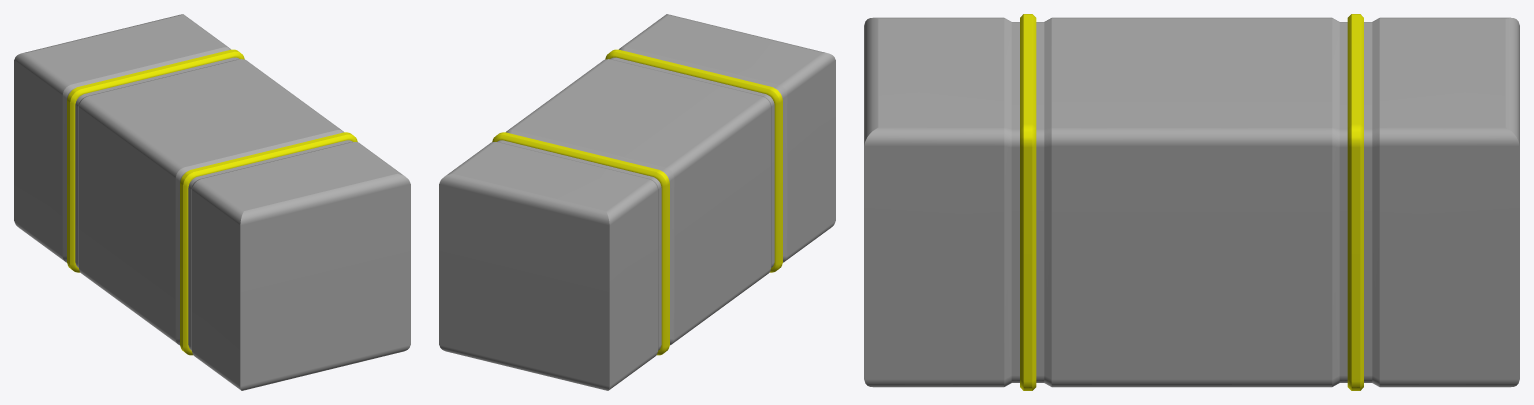
The model's file is hay.fbx.
The picture shows the model from 3 angles, left to right: view 1: azimuth 30°, elevation 25°; view 2: azimuth 150°, elevation 25°; view 3: azimuth 270°, elevation 25°; orthographic projection. The views are drawn at different scales.
Parts seen in each view (by area): view 1: hay; view 2: hay; view 3: hay.
Boxes of the visible parts, x1,y1,x2,y2 form: hay: [14, 14, 410, 390]; hay: [439, 14, 835, 390]; hay: [864, 14, 1519, 390].
Size of the model in its own units: 121 by 121 by 271.
